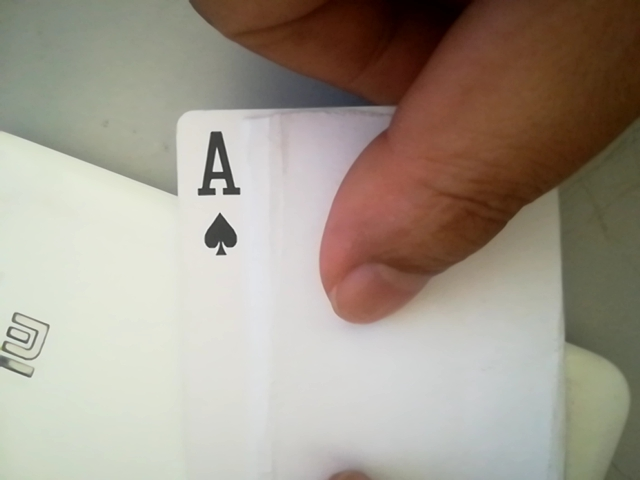ht a: (184, 119, 253, 265)
